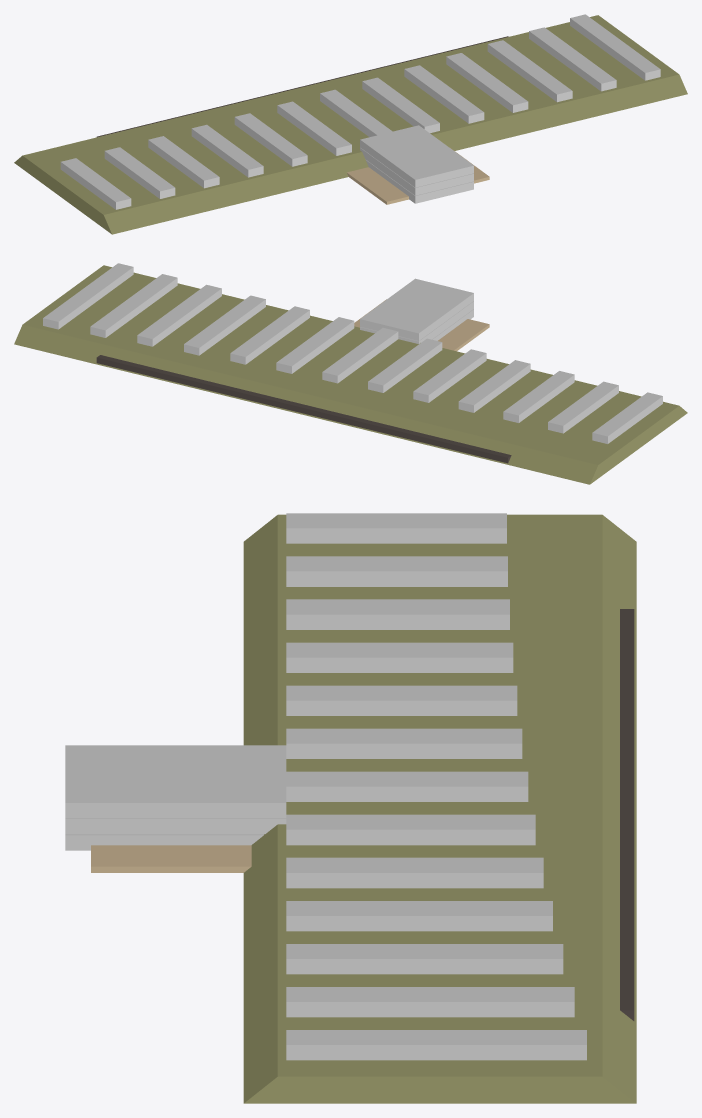
File: SM_Via_DesvioIzq_v3_Obra_LOD1.fbx
3 views of the same model, one above another, from view 1: azimuth 30°, elevation 25°; view 2: azimuth 150°, elevation 25°; view 3: azimuth 270°, elevation 25° (orthographic). The views are drawn at different scales.
Visible parts, largest first — view 1: SM_via_trazado_v28_LOD1; view 2: SM_via_trazado_v28_LOD1; view 3: SM_via_trazado_v28_LOD1.
Boxes of the visible parts, bbox=[...] form: SM_via_trazado_v28_LOD1: bbox=[14, 14, 687, 234]; SM_via_trazado_v28_LOD1: bbox=[14, 263, 687, 484]; SM_via_trazado_v28_LOD1: bbox=[65, 513, 636, 1103].
Size of the model in its own units: 15.66 by 0.63 by 6.73.
